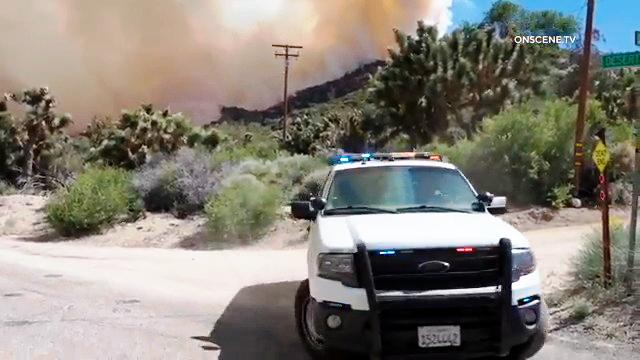smoke: (89, 12, 197, 86)
